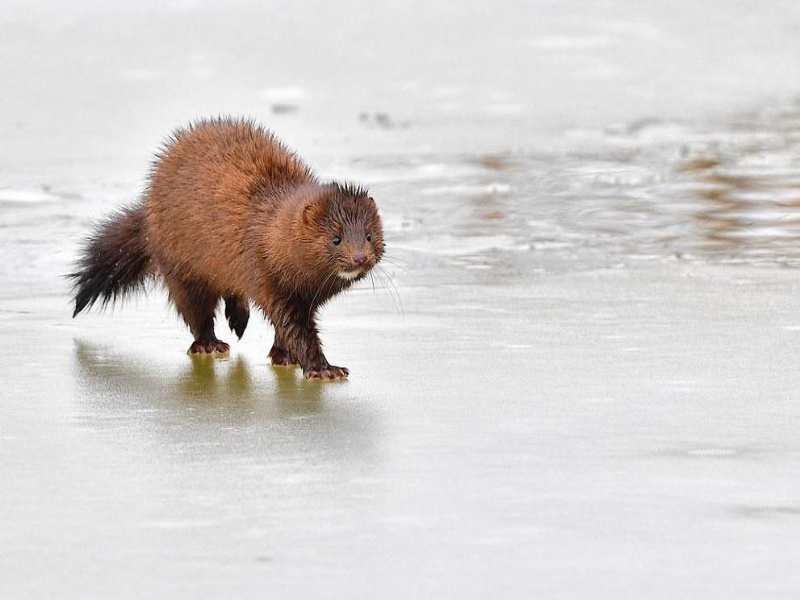minkish: (65, 115, 389, 383)
